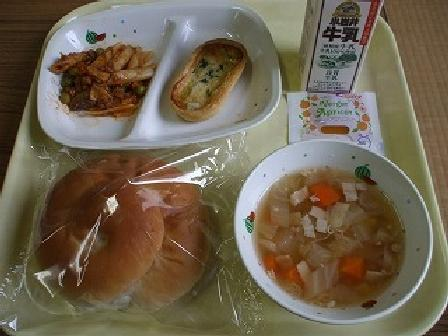Bread: (16, 148, 233, 313)
Milk: (292, 0, 397, 95)
Soups: (242, 141, 428, 312)
casserole with meat and vegetables: (152, 21, 273, 124)
cooked food meat with vegetables: (35, 32, 160, 131)
